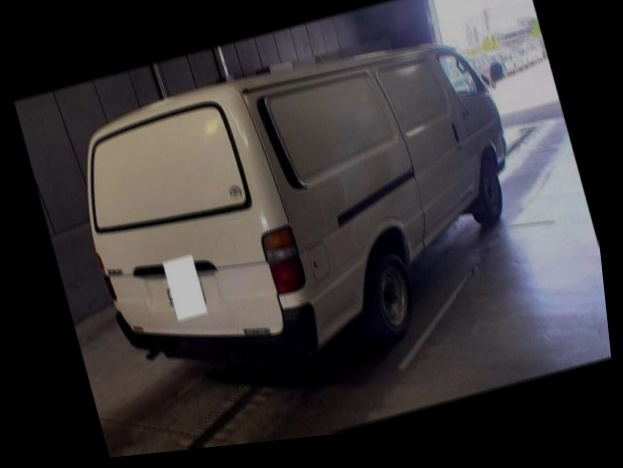van: (52, 14, 557, 407)
